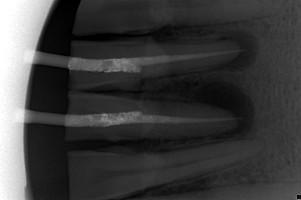Furcation Involvement: (191, 82, 256, 139), (217, 30, 257, 71)
